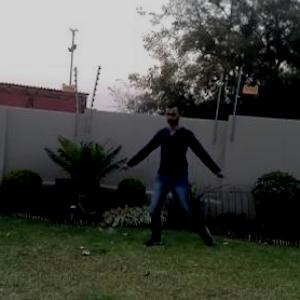land: (124, 106, 229, 244)
